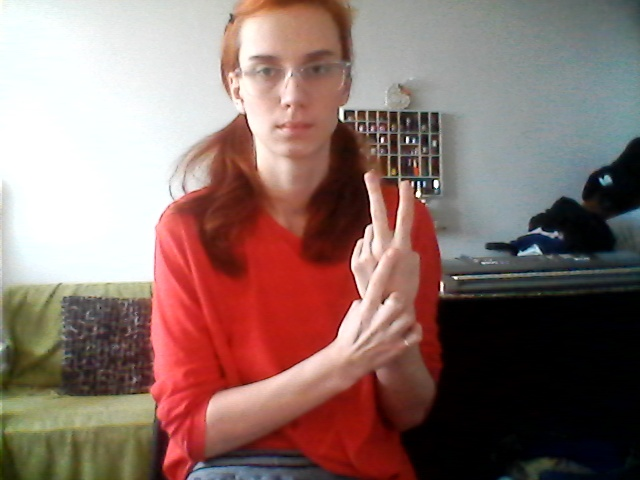y: (317, 168, 435, 396)
